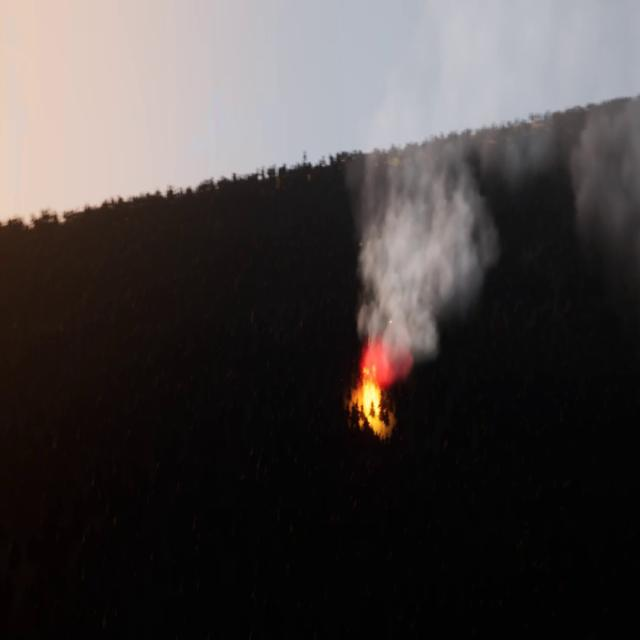fire: (349, 366, 390, 430)
smoke: (352, 1, 640, 383)
